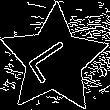L_NE: (25, 33, 83, 87)
